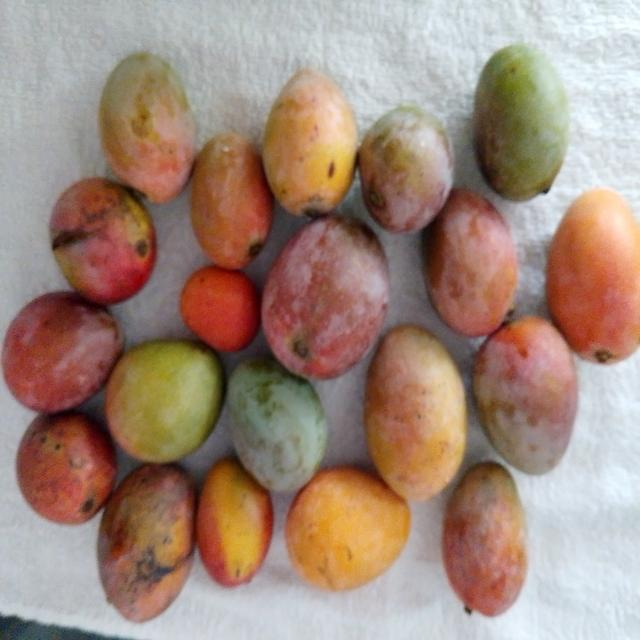mango: (259, 211, 392, 381), (470, 314, 580, 478), (367, 327, 470, 502), (544, 186, 640, 370), (102, 335, 230, 467), (95, 462, 200, 622), (470, 42, 570, 206), (97, 49, 200, 203), (284, 472, 413, 591), (260, 65, 360, 217), (422, 187, 520, 340), (46, 178, 158, 308), (442, 457, 530, 622), (226, 353, 327, 496), (191, 129, 279, 271), (360, 104, 452, 239)
